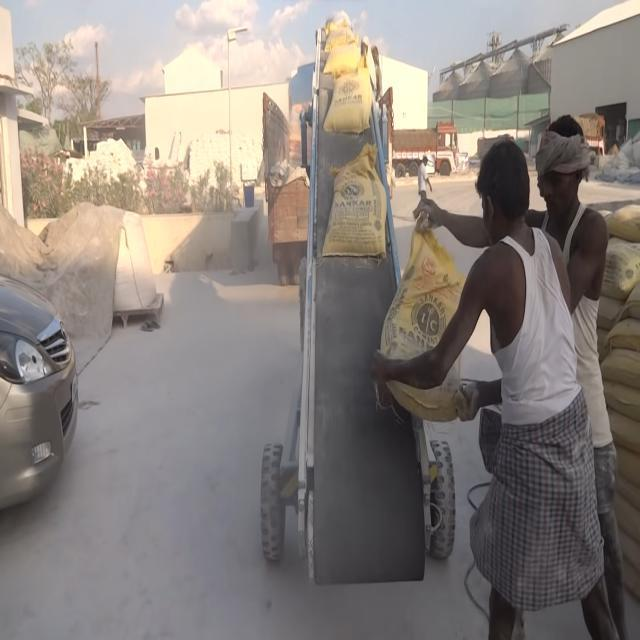gunny_bag: (381, 230, 466, 359), (322, 143, 387, 256), (388, 363, 461, 421), (324, 65, 373, 131), (602, 348, 640, 388), (323, 40, 361, 79), (325, 24, 358, 51)
